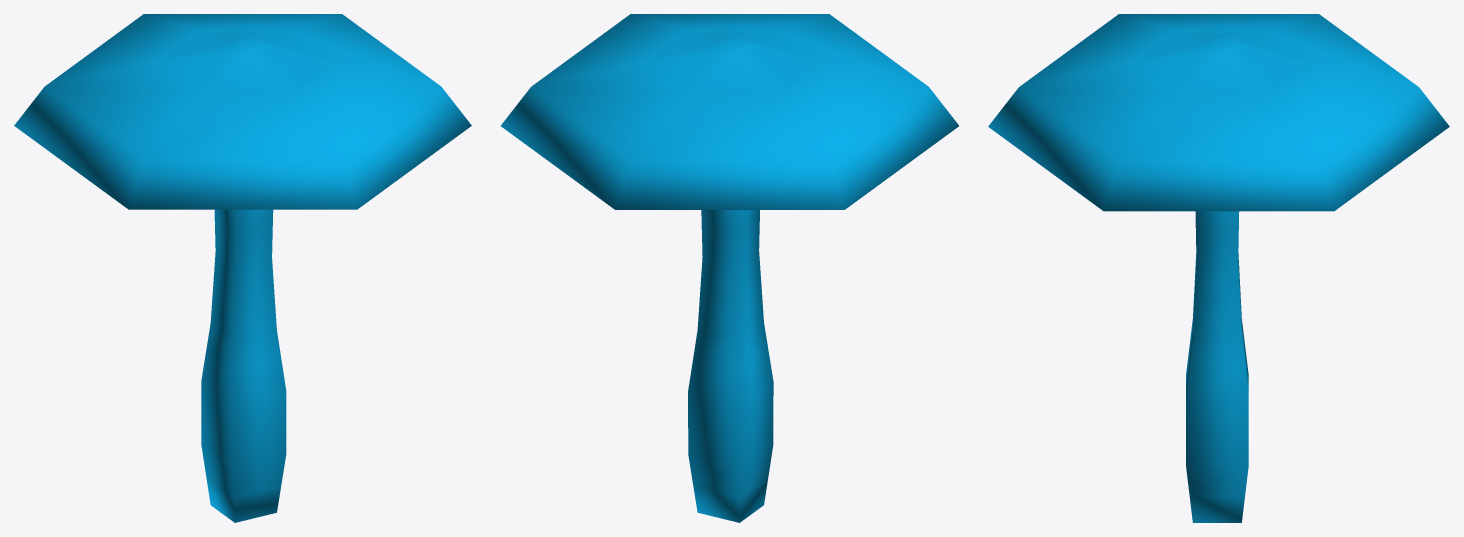
The model's file is BlueMushroom.fbx.
3 renders of one model, left to right at view 1: azimuth 30°, elevation 25°; view 2: azimuth 150°, elevation 25°; view 3: azimuth 270°, elevation 25°, orthographic.
Visible parts, largest first — view 1: Plane_LOD0; view 2: Plane_LOD0; view 3: Plane_LOD0.
Part boxes in pixels (x1,y1,x2,y2): Plane_LOD0: (14,14,471,522); Plane_LOD0: (501,14,958,522); Plane_LOD0: (988,14,1449,522).
Size of what is drawn, in the model's own units: 139 by 180 by 161.
